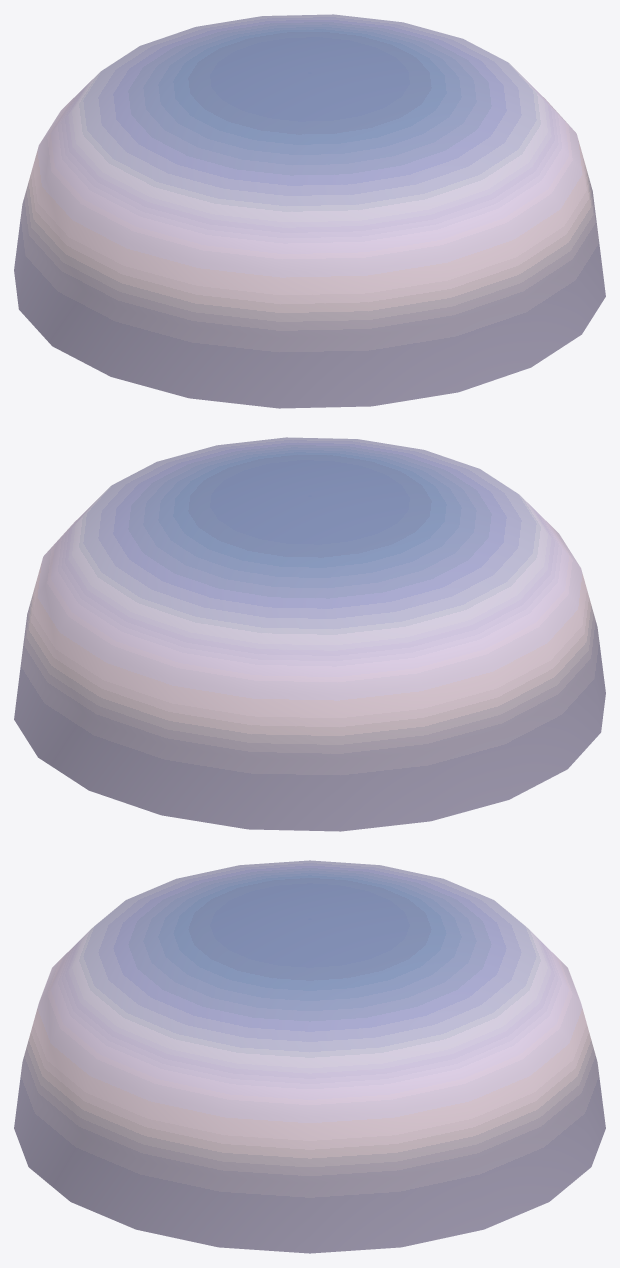
The model's file is stage-sanf-sky.glb.
The picture shows the model from 3 angles, top to bottom: view 1: azimuth 30°, elevation 25°; view 2: azimuth 150°, elevation 25°; view 3: azimuth 270°, elevation 25°; orthographic projection.
Visible parts, largest first — view 1: sky; view 2: sky; view 3: sky.
Boxes of the visible parts, left/top/right/bottom form: sky: left=14, top=14, right=605, bottom=408; sky: left=14, top=437, right=605, bottom=831; sky: left=14, top=860, right=605, bottom=1253.
Size of the model in its own units: 3660 by 1428 by 3660.
3 materials, 3 textured.
